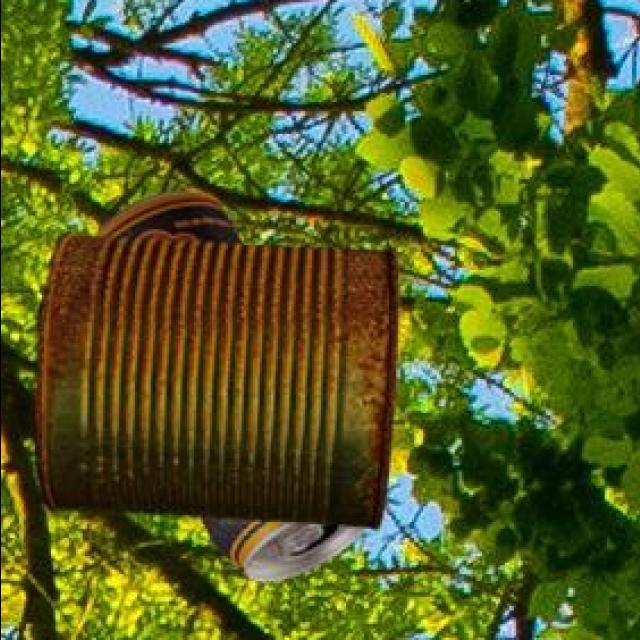logam: (31, 237, 394, 532), (92, 194, 362, 584)
